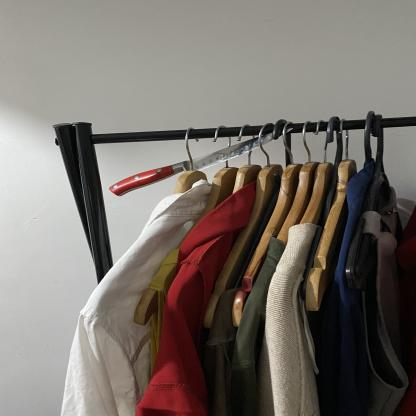Knife: (108, 125, 293, 198)
